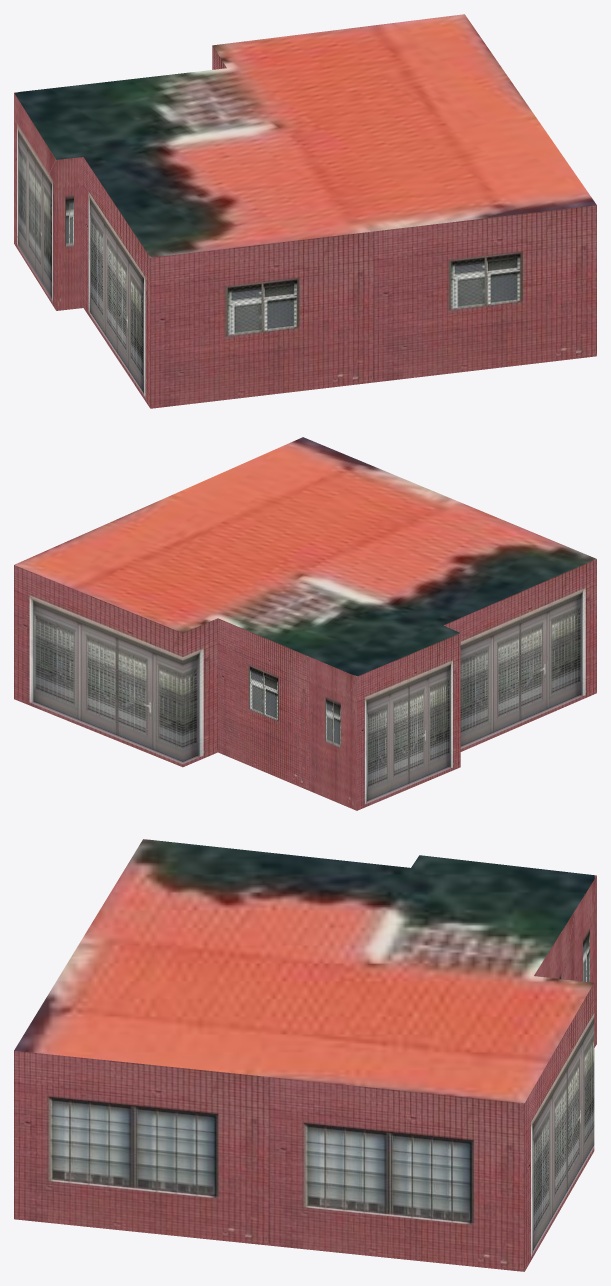
The model's file is tile_LOD8_r0_c5.glb.
3 renders of one model, top to bottom at view 1: azimuth 30°, elevation 25°; view 2: azimuth 150°, elevation 25°; view 3: azimuth 270°, elevation 25°, orthographic. The views are drawn at different scales.
Size of the model in its own units: 11.87 by 3.53 by 11.06.
Materials: 4 (4 with a texture image).
